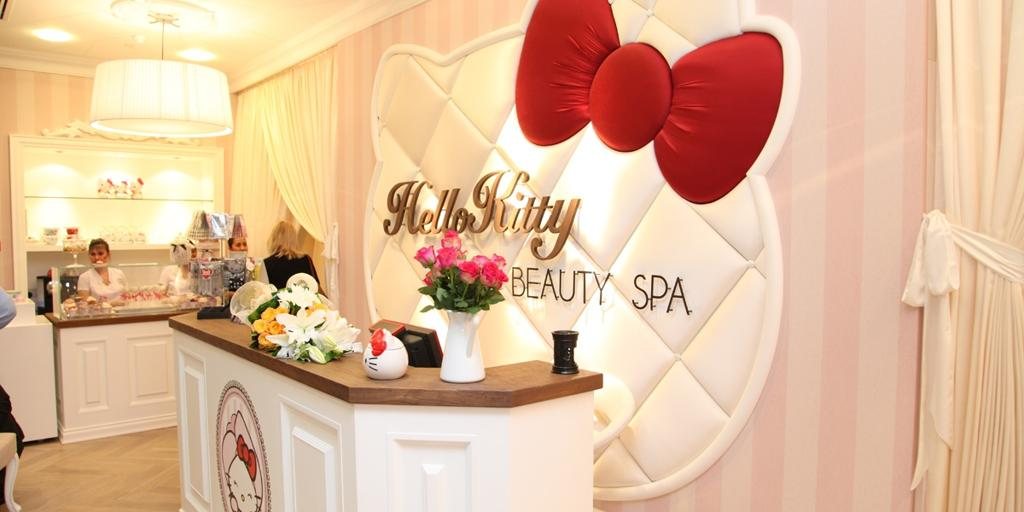face: (88, 247, 108, 266), (231, 236, 248, 255), (188, 243, 196, 260)
